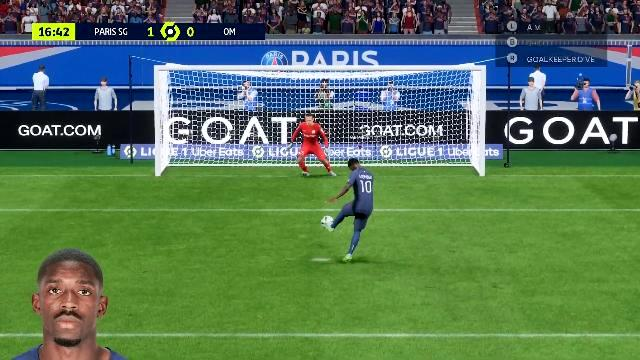bottom-left: (160, 126, 262, 178)
bottom-right: (369, 127, 479, 178)
center-down: (264, 127, 368, 179)
center-up: (264, 72, 368, 127)
football: (321, 216, 333, 224)
goalkeeper: (286, 114, 336, 178)
player: (326, 160, 376, 266)
top-left: (160, 70, 262, 126)
top-right: (369, 70, 479, 126)
